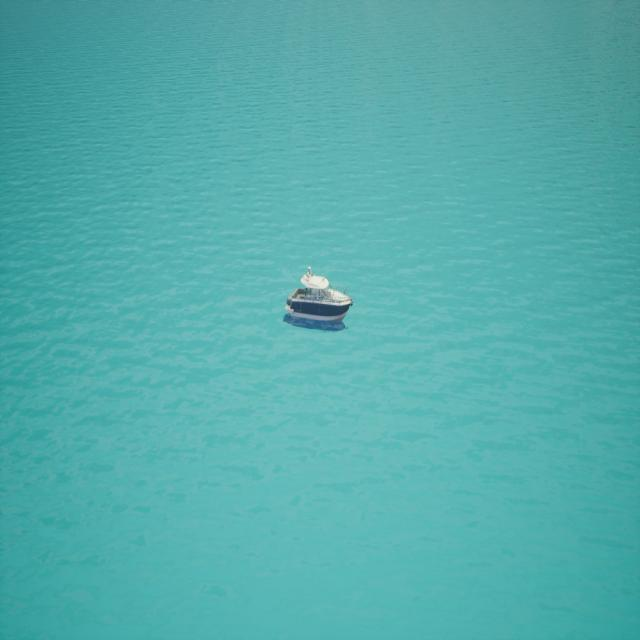ship: (283, 264, 354, 330)
